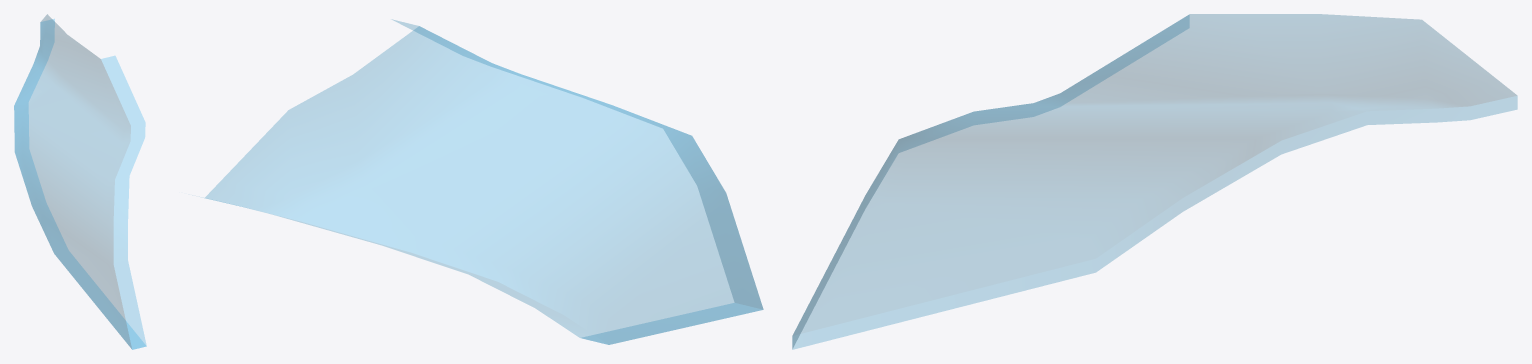
File: p_hvs_minidungeon_rewardlocker_shatterglass_part07.fbx
3 renders of one model, left to right at view 1: azimuth 30°, elevation 25°; view 2: azimuth 150°, elevation 25°; view 3: azimuth 270°, elevation 25°, orthographic. The views are drawn at different scales.
Visible parts, largest first — view 1: 7_shatterglass; view 2: 7_shatterglass; view 3: 7_shatterglass.
Boxes of the visible parts, x1,y1,x2,y2 form: 7_shatterglass: (14, 14, 146, 349); 7_shatterglass: (205, 19, 763, 344); 7_shatterglass: (792, 14, 1517, 349).
Bounding box in the file's own units: 0.7498 × 1.31 × 2.21.
